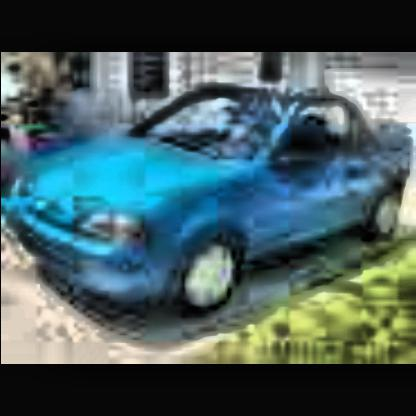Geo Metro Convertible 1993: (15, 93, 412, 319)
